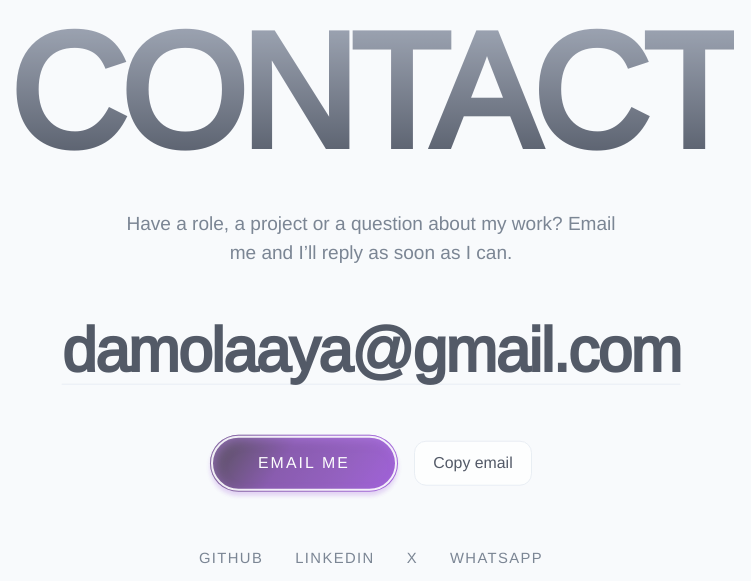
Scenario: contact section › copies the address and says so
Click the button "Copy email" at (473, 463), box [414,441,532,485]
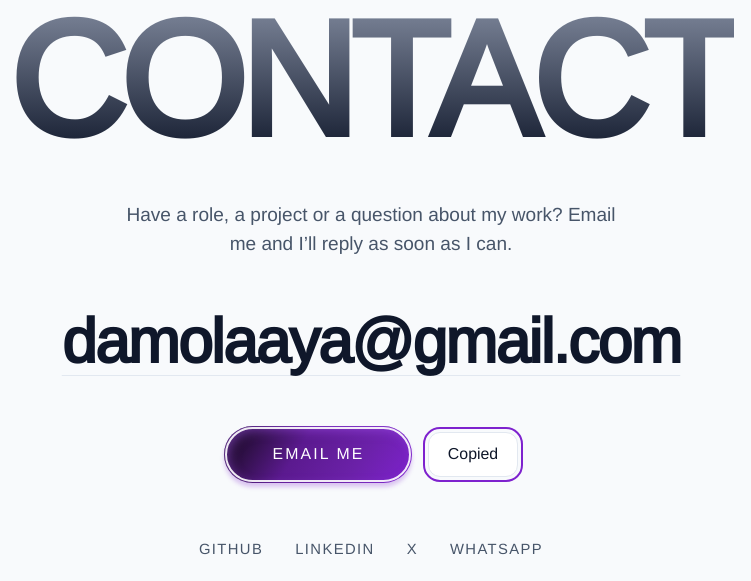
Check: the button "Copied" is shown, box [428,432,518,477]
